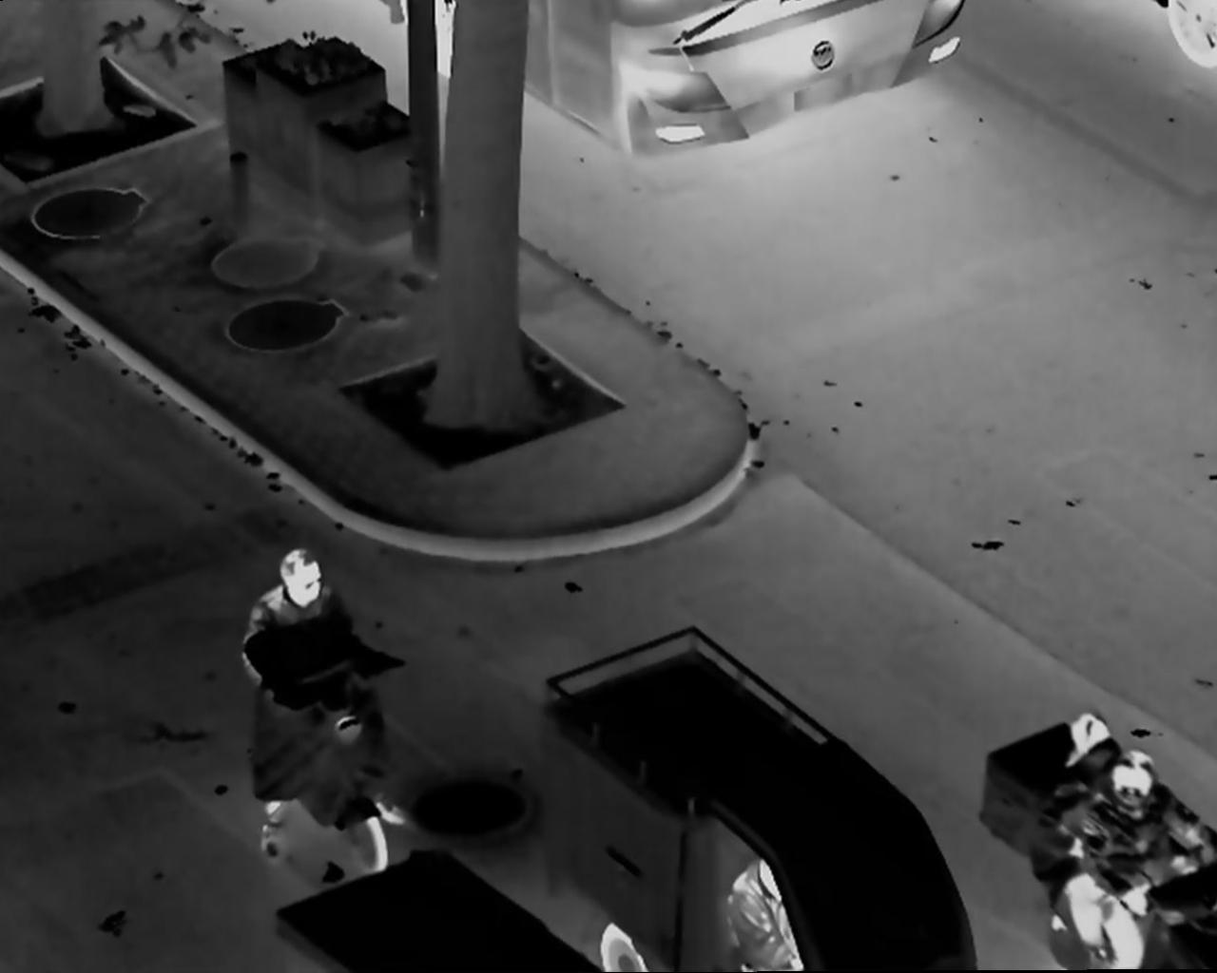person: (239, 544, 406, 866), (1088, 746, 1215, 964), (1060, 696, 1125, 892), (726, 849, 805, 973)
